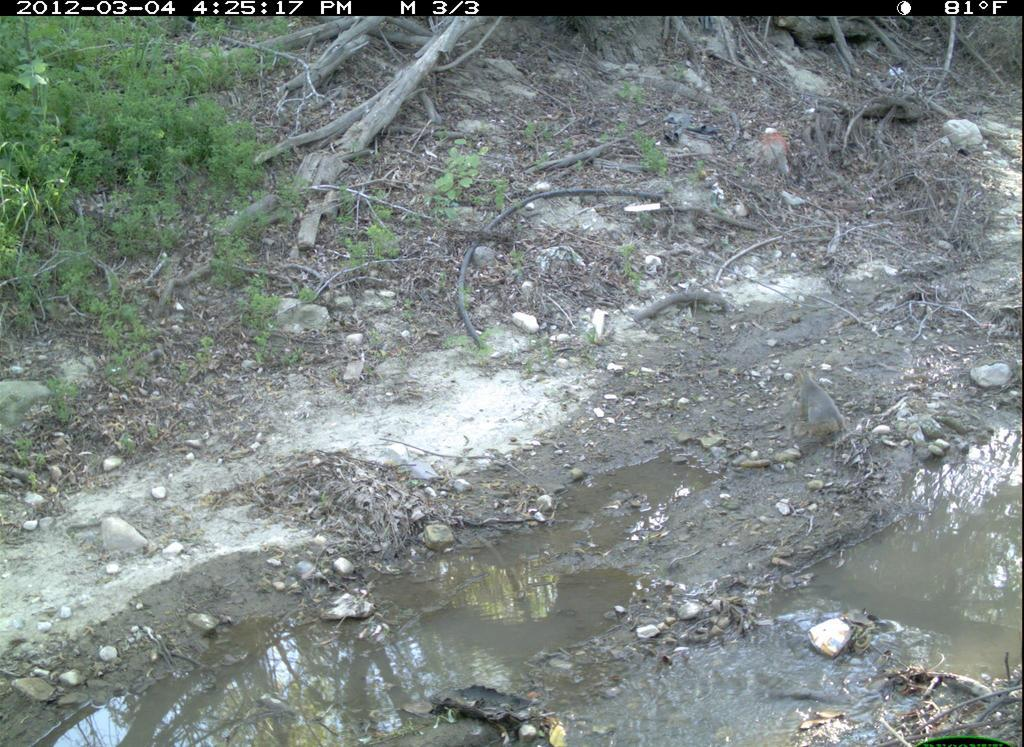squirrel: (794, 360, 850, 454)
